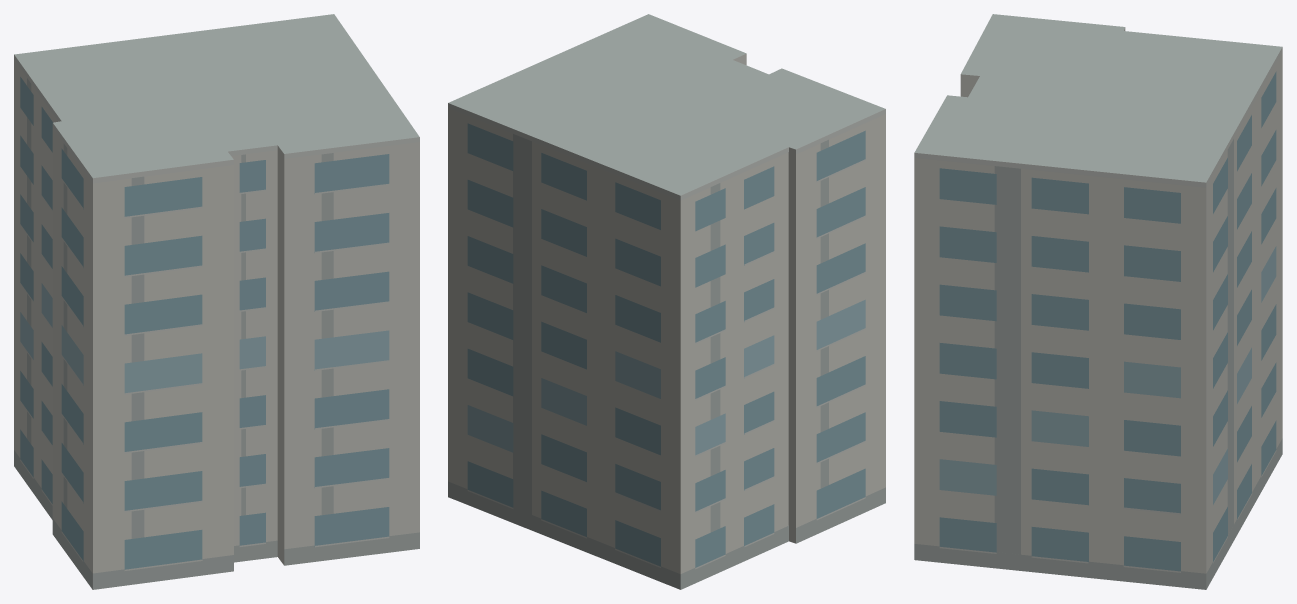
The model's file is survey-upis-32963111.glb.
The picture shows the model from 3 angles, left to right: view 1: azimuth 30°, elevation 25°; view 2: azimuth 150°, elevation 25°; view 3: azimuth 270°, elevation 25°; orthographic projection. The views are drawn at different scales.
Parts seen in each view (by area): view 1: survey-upis-32963111.tmp; view 2: survey-upis-32963111.tmp; view 3: survey-upis-32963111.tmp.
Boxes of the visible parts, box(x1,y1,x2,y2) form: survey-upis-32963111.tmp: box(14, 14, 419, 589); survey-upis-32963111.tmp: box(448, 14, 885, 589); survey-upis-32963111.tmp: box(914, 14, 1282, 589).
Size of the model in its own units: 17.5 by 19.7 by 16.15.
